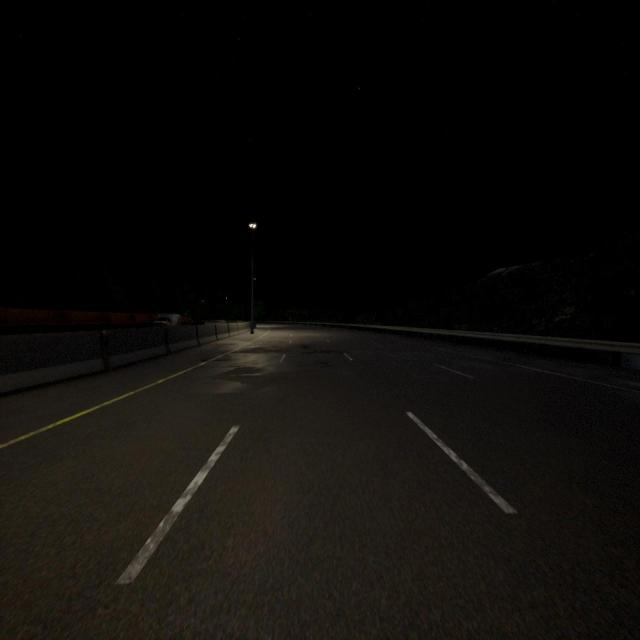Vehicle: (153, 314, 181, 326), (187, 318, 205, 325)
